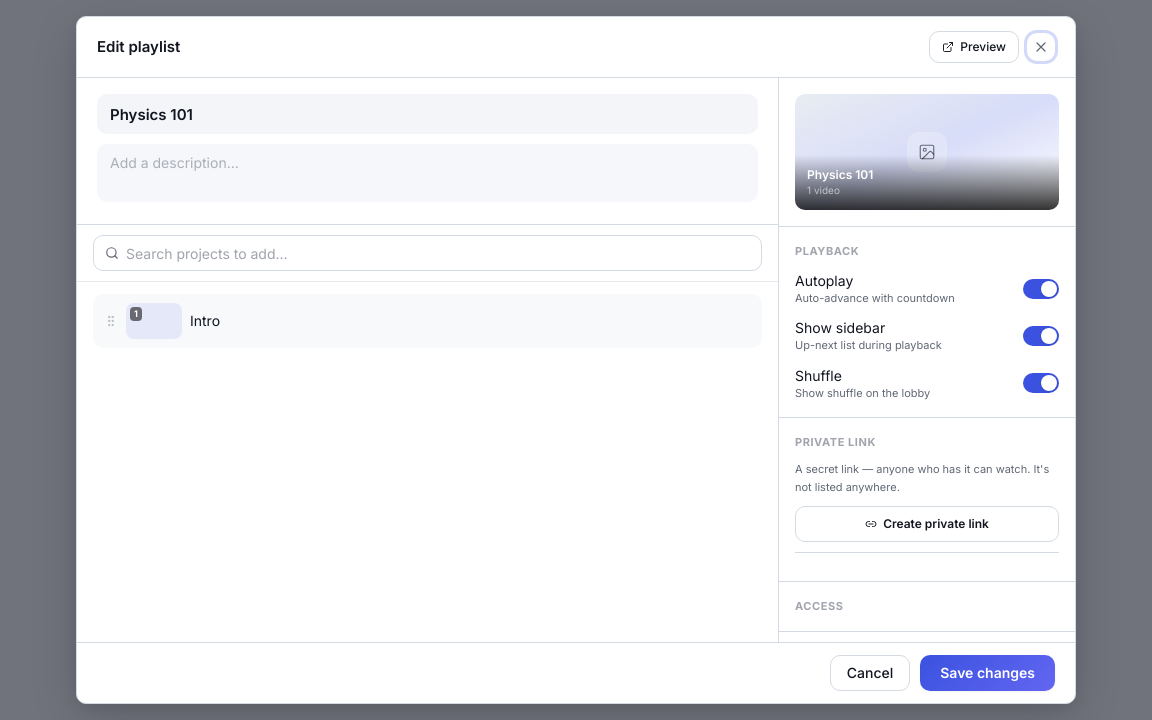
playlist editor — Create private link › reports the failure instead of leaving the button looking like it did nothing
Click the button "Create private link".
click(927, 524)  # box [795,506,1059,542]
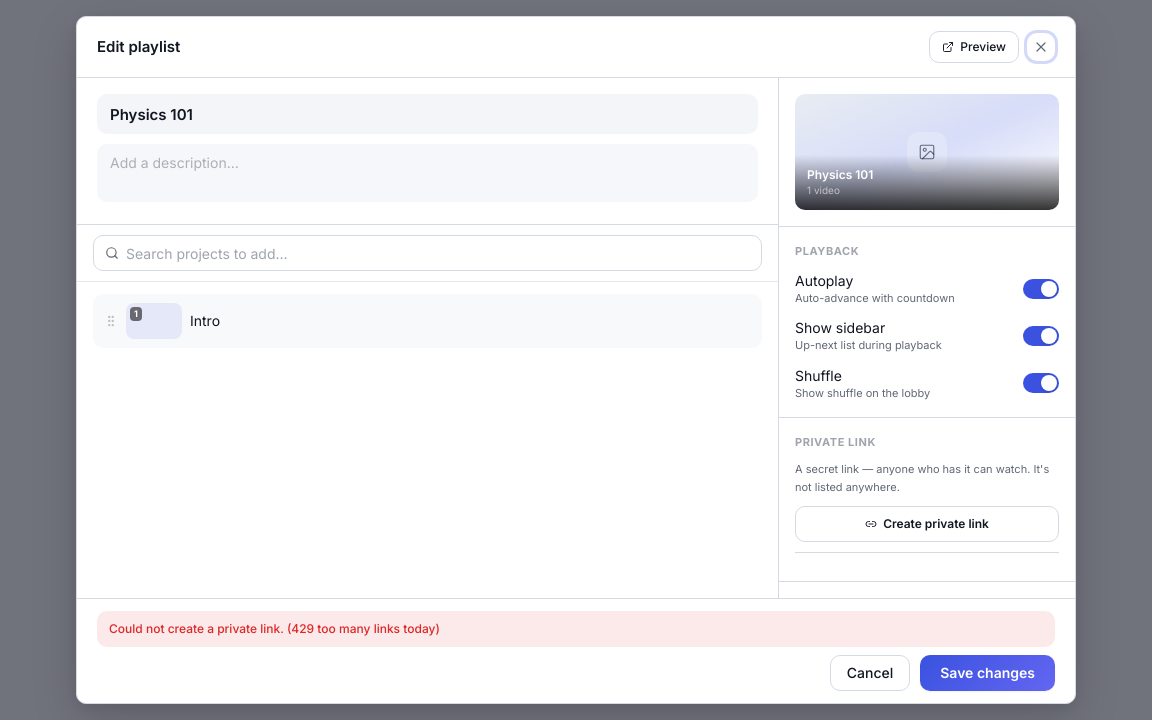
Check: the message shows "private link", box [109,621,440,636]
Check: the message shows "429 too many links today", box [109,621,440,636]
